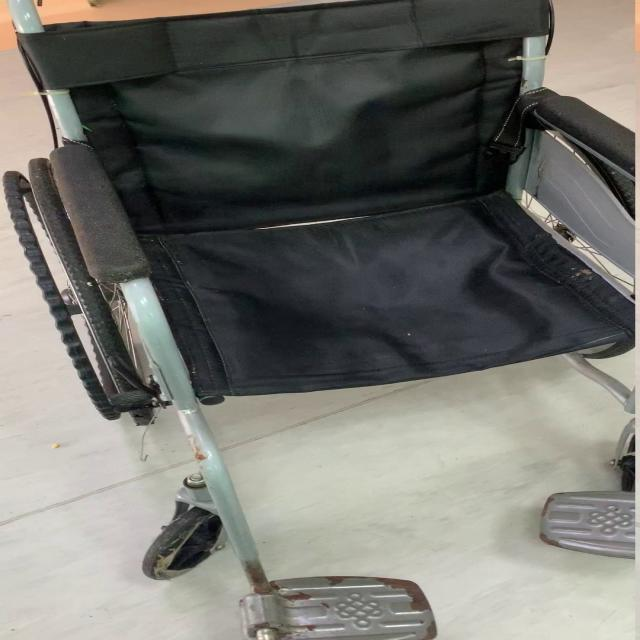wheelchair: (4, 3, 640, 640)
